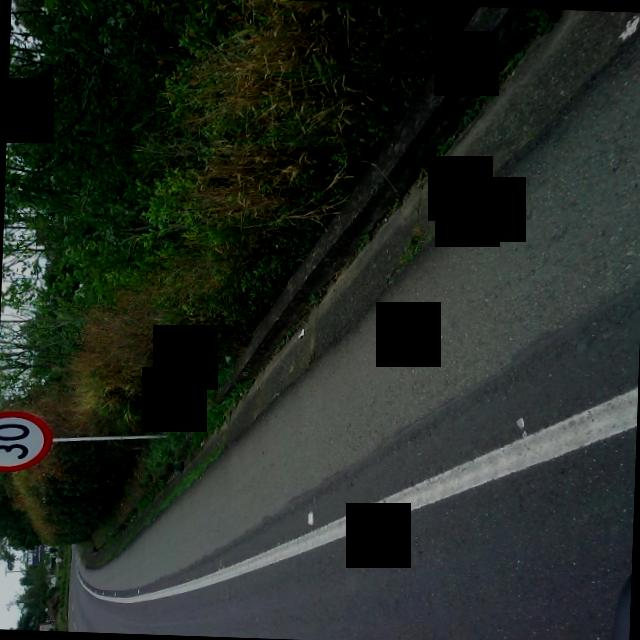DITCH: (68, 0, 640, 625)
